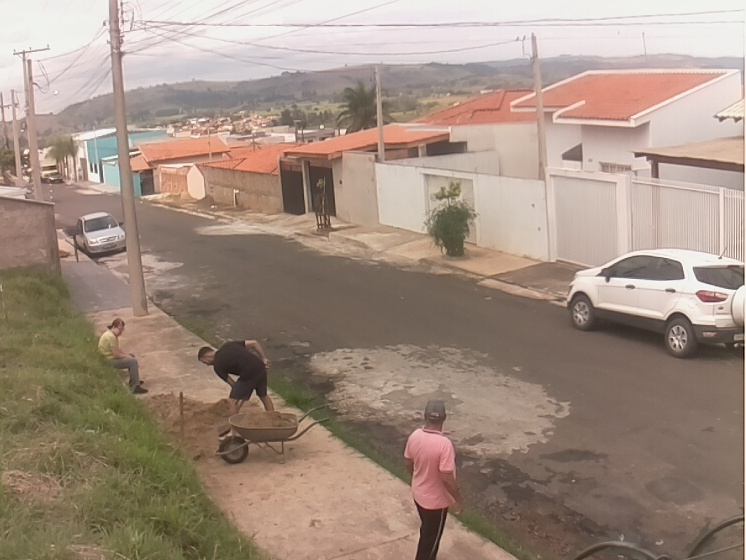person: (403, 399, 463, 560), (197, 338, 277, 418), (97, 318, 148, 395)
